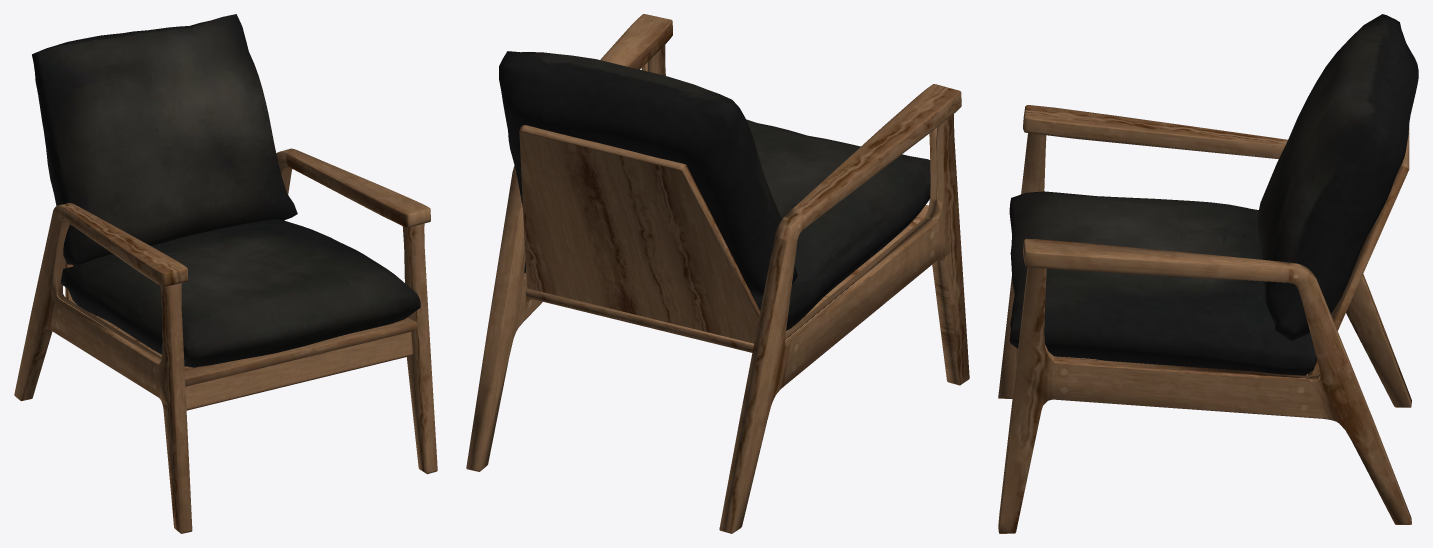
The model's file is modern_arm_chair_01.glb.
3 views of the same model, side by side, from view 1: azimuth 30°, elevation 25°; view 2: azimuth 150°, elevation 25°; view 3: azimuth 270°, elevation 25° (orthographic). The views are drawn at different scales.
Visible parts, largest first — view 1: modern_arm_chair_01; view 2: modern_arm_chair_01; view 3: modern_arm_chair_01.
Boxes of the visible parts, x1=… form: modern_arm_chair_01: x1=14, y1=14, x2=437, y2=533; modern_arm_chair_01: x1=466, y1=14, x2=969, y2=533; modern_arm_chair_01: x1=998, y1=14, x2=1418, y2=533.
Bounding box in the file's own units: 0.8204 × 1.02 × 0.9863.
2 materials, 2 textured.
